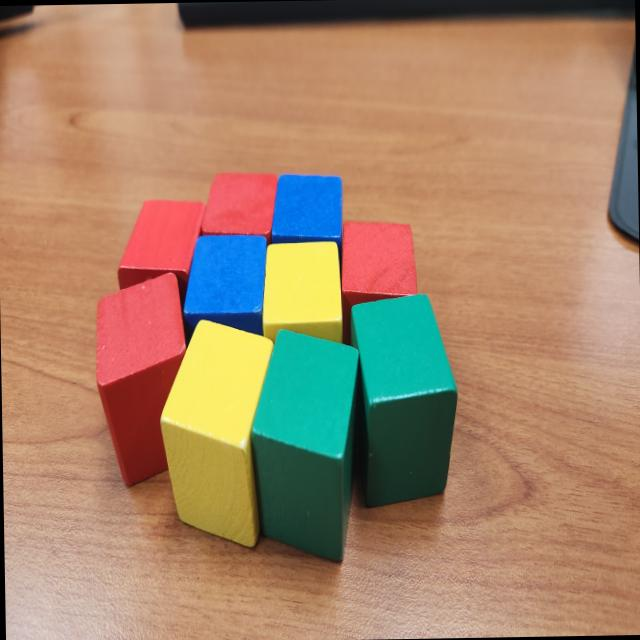blue: (181, 233, 271, 349), (269, 172, 343, 286)
green: (247, 327, 364, 565), (349, 292, 461, 510)
red: (93, 271, 191, 488), (113, 198, 209, 350), (337, 218, 418, 316), (200, 170, 280, 243)
yellow: (158, 318, 278, 552), (261, 241, 346, 349)
